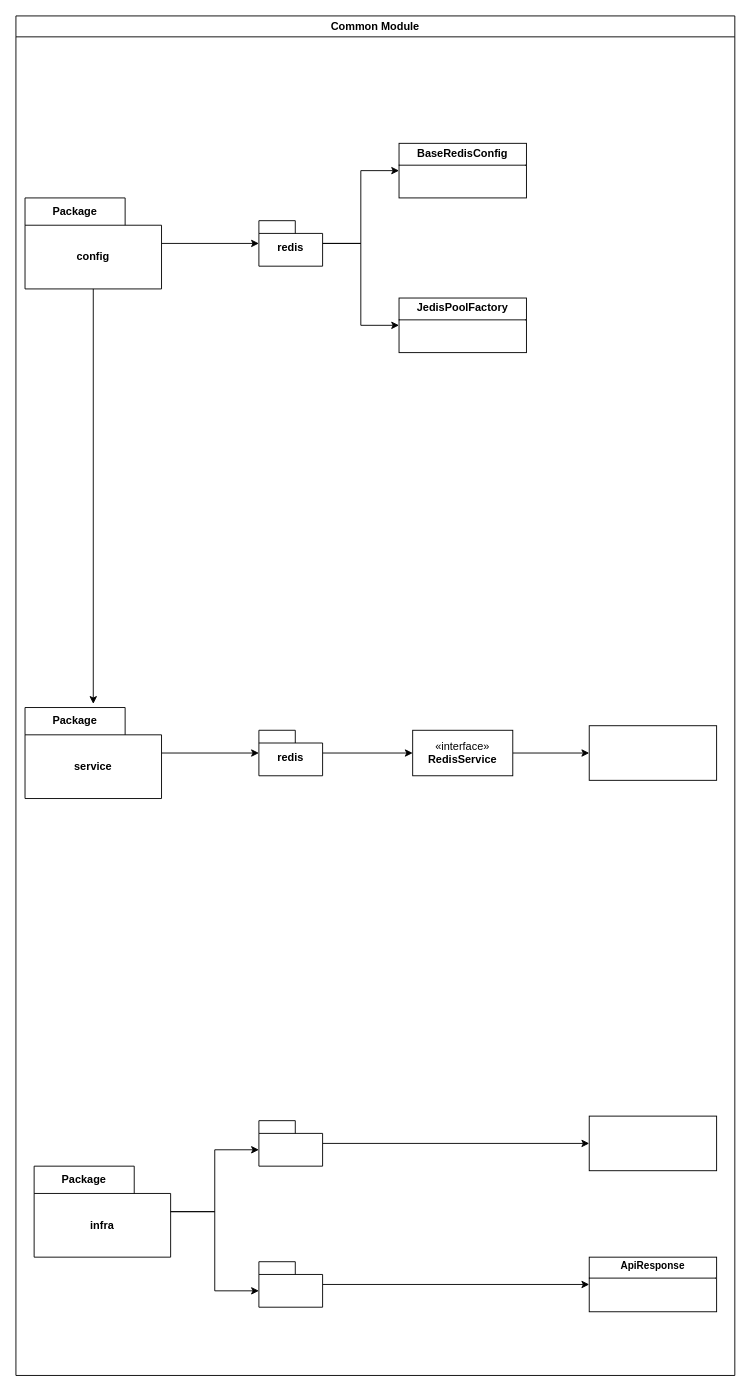
This 751x1391 diagram has some shape labels left out. The shapes that lost their labels are listed below. From the top down, each one's centre as x and y in pixels, then its label:
At (x=652, y=752): "RedisServiceImp".
At (x=290, y=1143): "exception".
At (x=652, y=1143): "GlobalExceptionHandler".
At (x=290, y=1284): "response".
